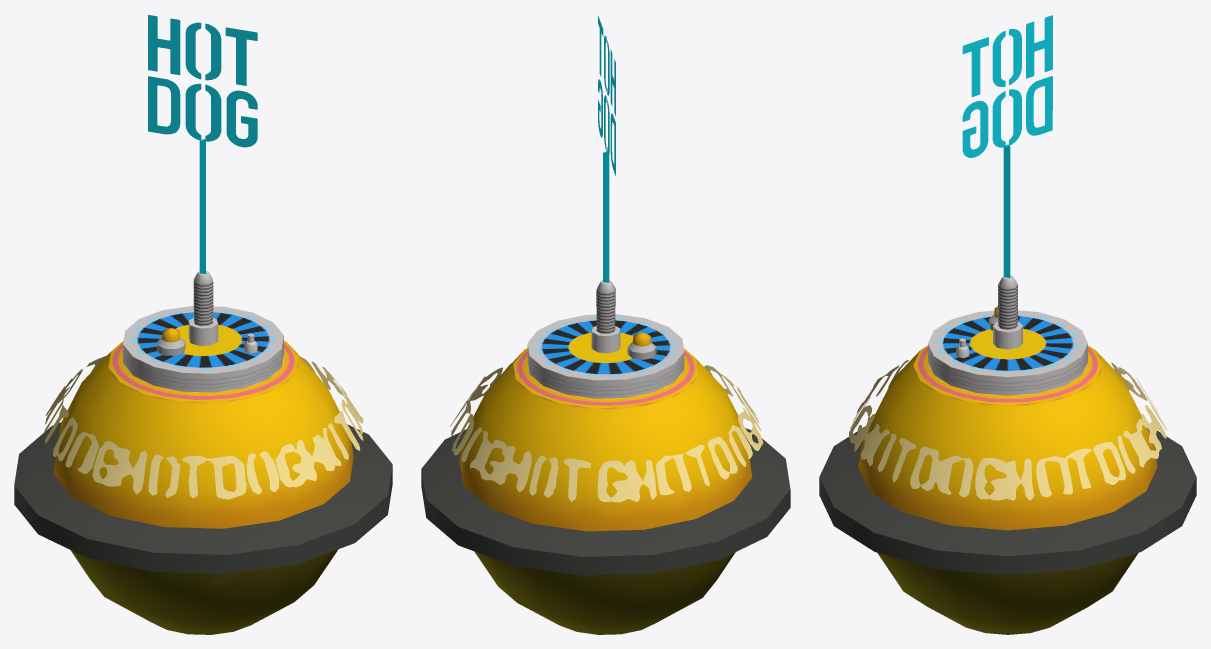
3 views of the same model, side by side, from view 1: azimuth 30°, elevation 25°; view 2: azimuth 150°, elevation 25°; view 3: azimuth 270°, elevation 25° (orthographic). The views are drawn at different scales.
Visible parts, largest first — view 1: FB_LOD; view 2: FB_LOD; view 3: FB_LOD.
Boxes of the visible parts, left/top/right/bottom form: FB_LOD: left=14, top=15, right=392, bottom=634; FB_LOD: left=421, top=16, right=790, bottom=634; FB_LOD: left=819, top=15, right=1196, bottom=634.
Bounding box in the file's own units: 38.59 × 66.65 × 38.59.
2 materials, 2 textured.
